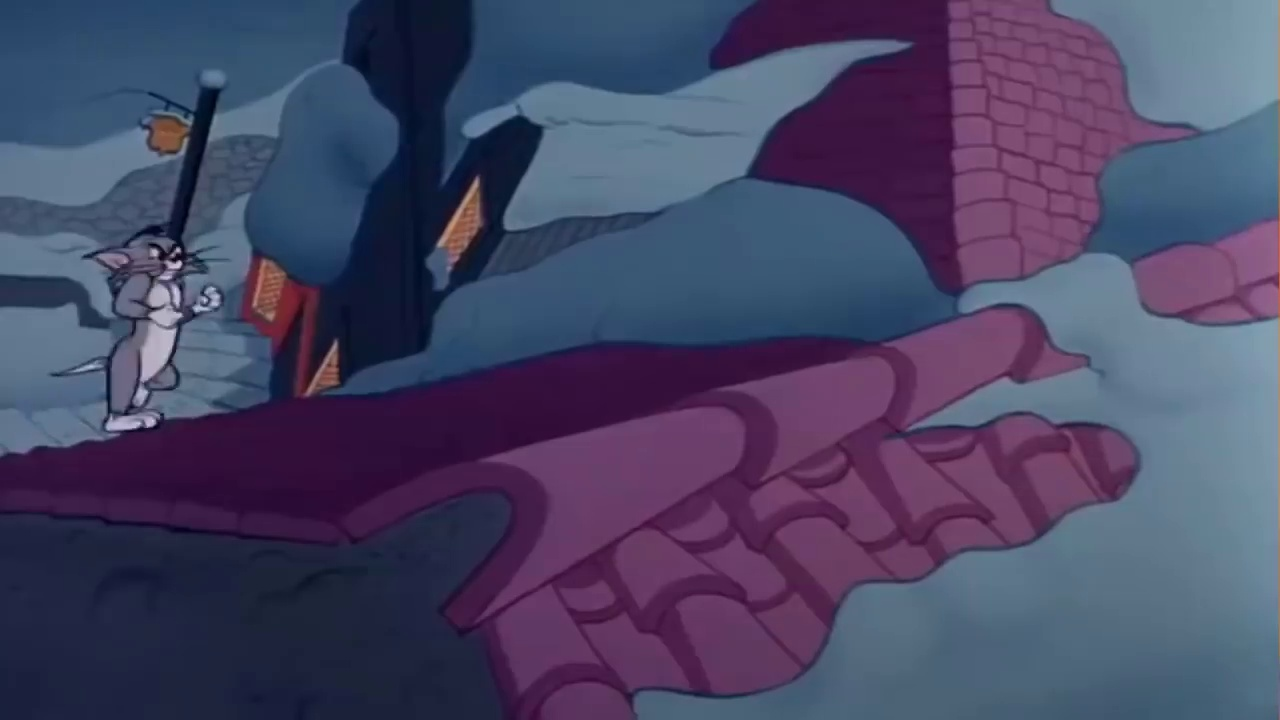face: (133, 237, 192, 280)
